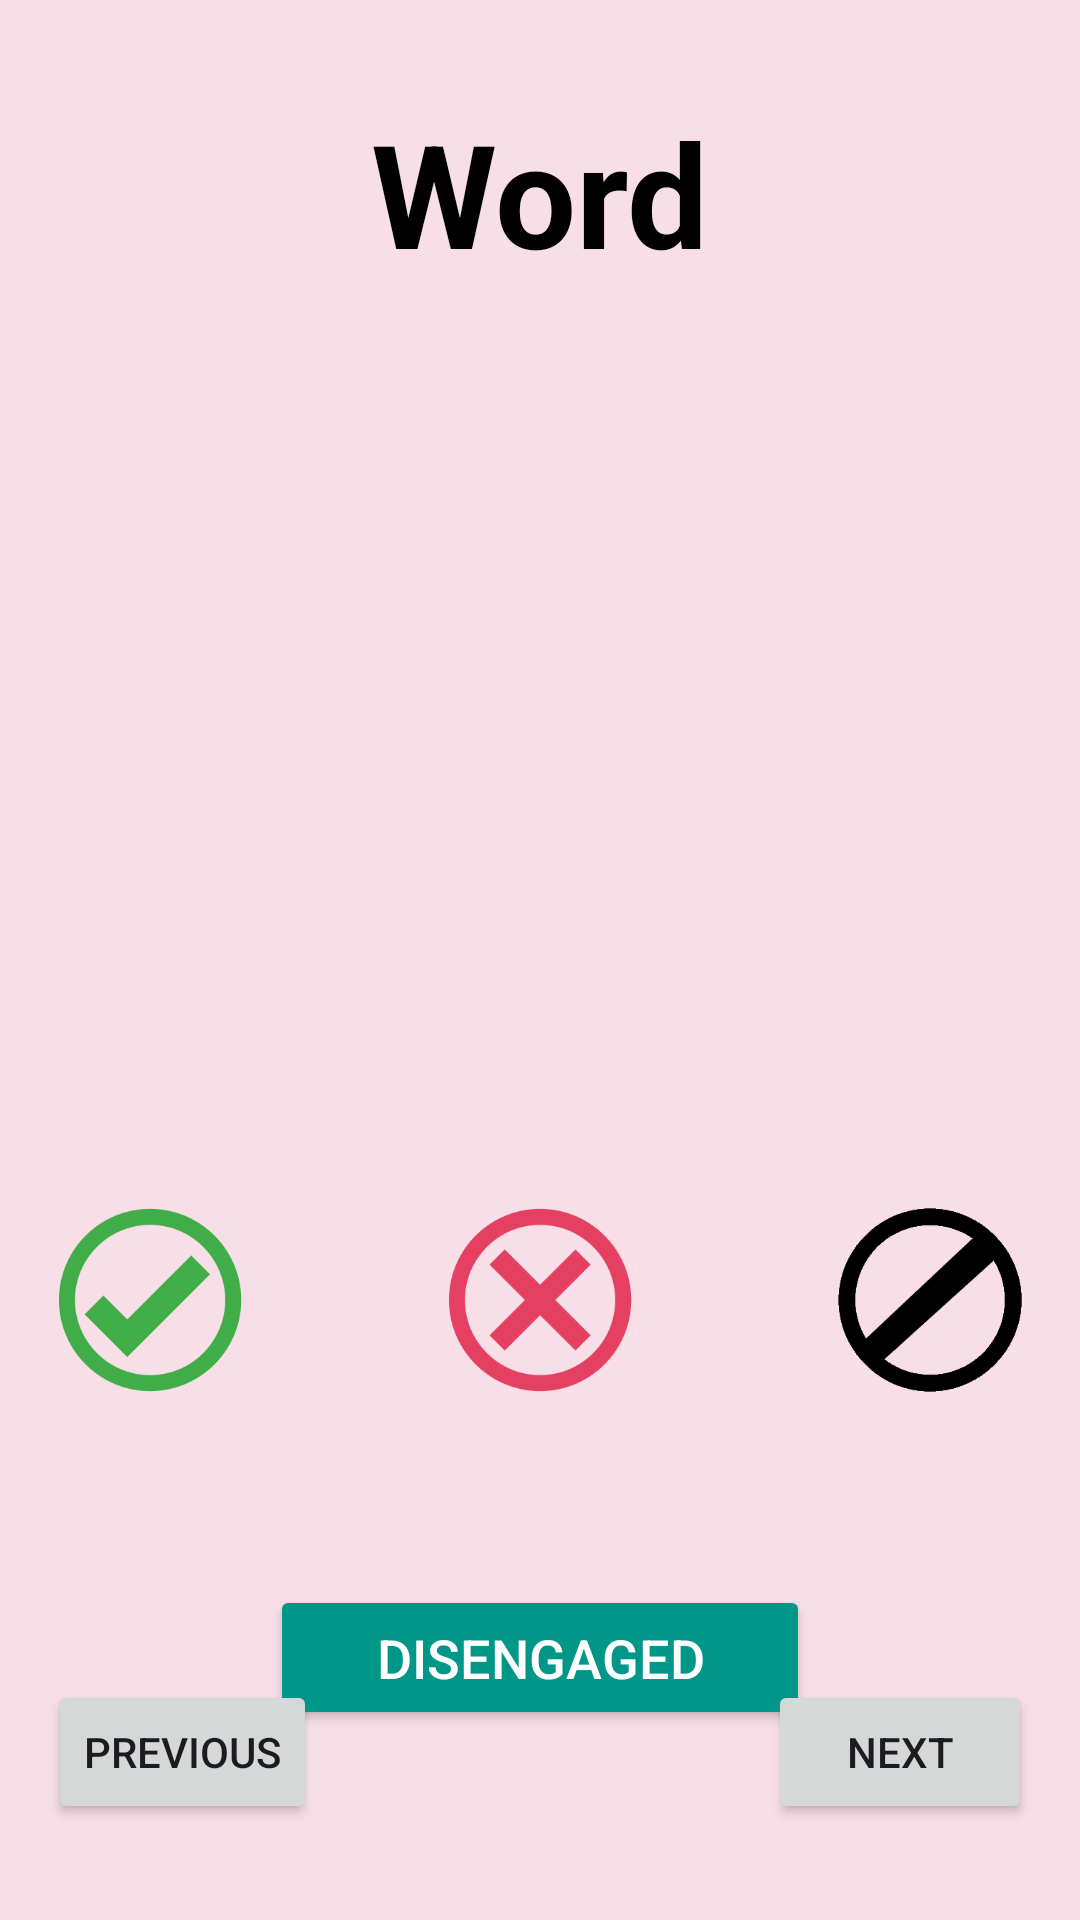

Icons on this 1080 × 1920 Android screen, each with its box as (x1, y1, x2, y2):
Wrong: (449, 1209, 632, 1391)
